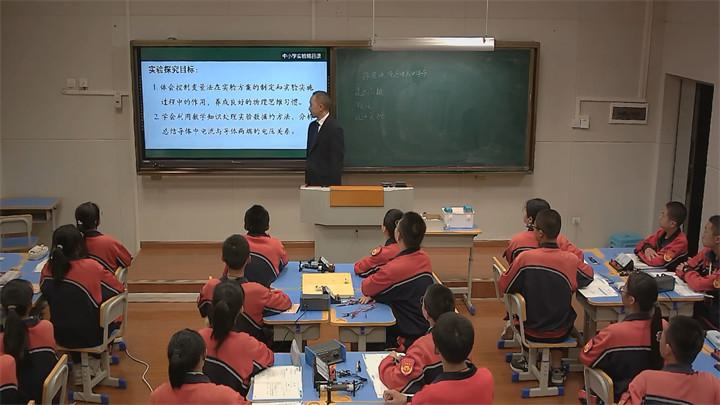listen: (427, 319, 475, 397), (530, 202, 567, 302), (5, 275, 43, 364), (659, 312, 707, 382), (43, 224, 86, 302), (207, 278, 251, 353), (75, 197, 121, 262), (243, 200, 281, 273), (618, 268, 654, 337), (396, 210, 428, 287), (653, 188, 681, 266), (699, 206, 720, 298), (370, 197, 396, 266), (510, 189, 536, 253)
